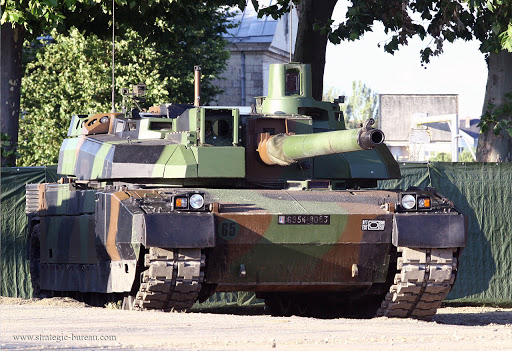license_plate: (277, 213, 330, 225)
